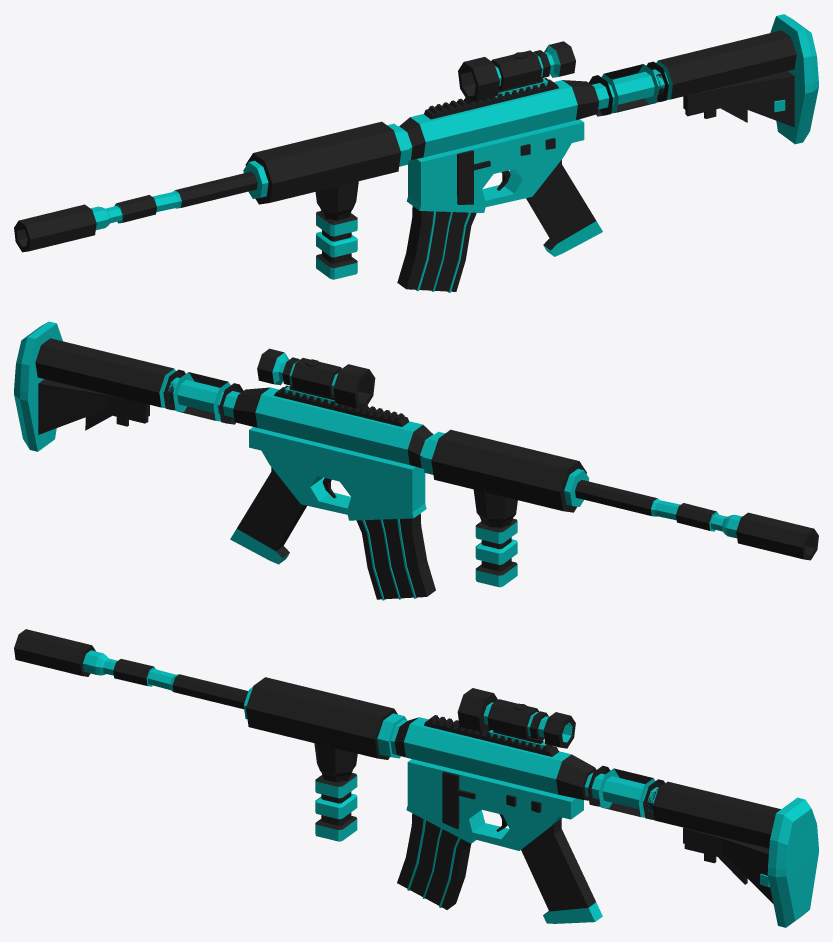
File: weapon-rifle.glb
3 views of the same model, one above another, from view 1: azimuth 30°, elevation 25°; view 2: azimuth 150°, elevation 25°; view 3: azimuth 330°, elevation 25° (orthographic).
Visible parts, largest first — view 1: M416_8; view 2: M416_8; view 3: M416_8.
Boxes of the visible parts, x1,y1,x2,y2 form: M416_8: [14, 14, 818, 292]; M416_8: [14, 321, 818, 600]; M416_8: [14, 629, 818, 927].
Bounding box in the file's own units: 3.89 × 1.05 × 0.3219.
